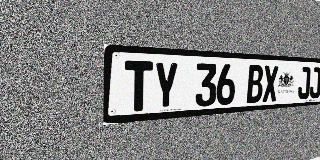3: (195, 63, 217, 107)
6: (216, 64, 236, 106)
B: (246, 65, 264, 103)
J: (298, 67, 311, 100), (309, 67, 320, 99)
T: (124, 60, 153, 112)
X: (263, 65, 278, 102)
Y: (153, 61, 178, 110)
